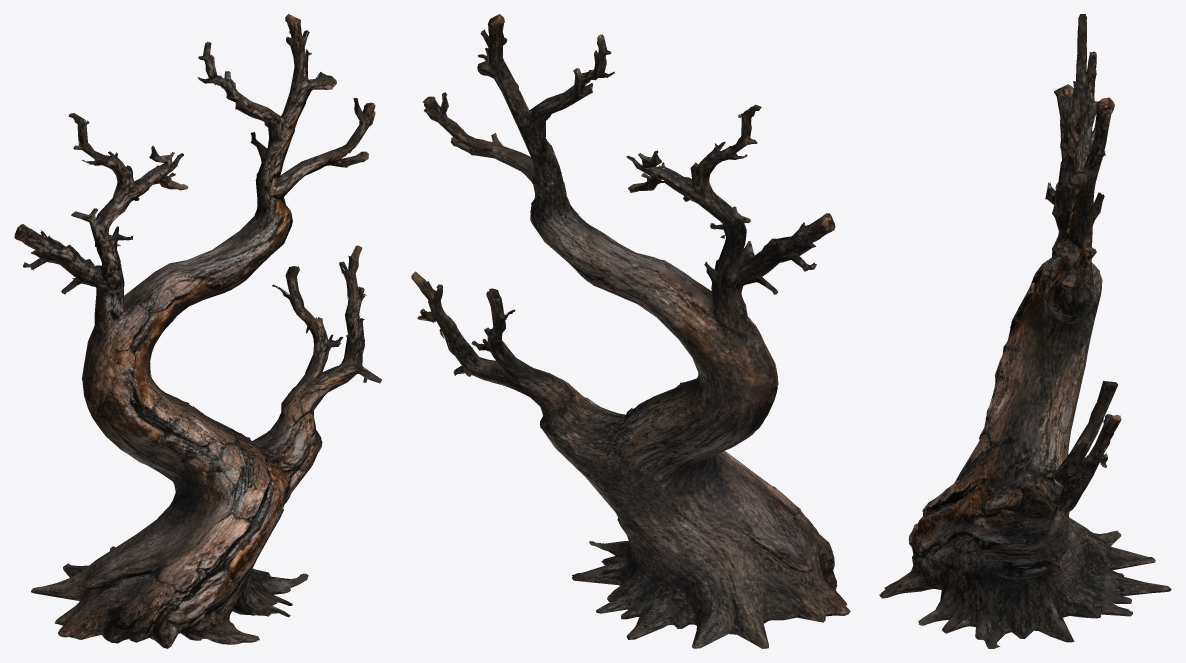
Rendered from Dead_Tree_Pixel.glb.
3 views of the same model, side by side, from view 1: azimuth 30°, elevation 25°; view 2: azimuth 150°, elevation 25°; view 3: azimuth 270°, elevation 25° (orthographic). The views are drawn at different scales.
Visible parts, largest first — view 1: material; view 2: material; view 3: material.
Part boxes in pixels (box(x1,y1,x2,y2)): material: box(14, 14, 382, 648); material: box(411, 14, 850, 648); material: box(879, 14, 1171, 648).
Bounding box in the file's own units: 0.7372 × 0.9938 × 0.4582.
Materials: 1 (1 with a texture image).
